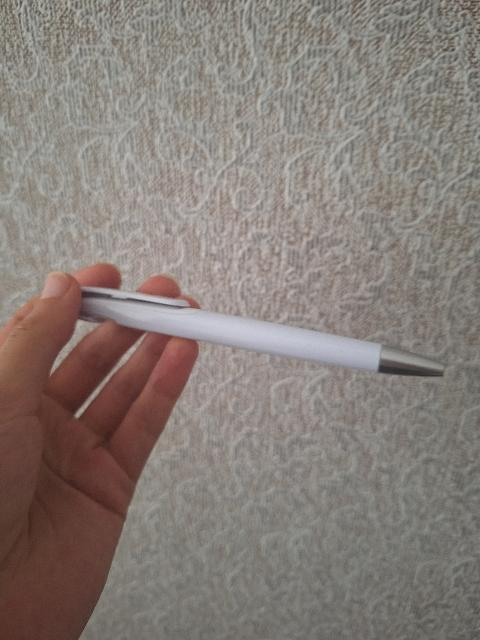writing_tool: (79, 276, 450, 382)
